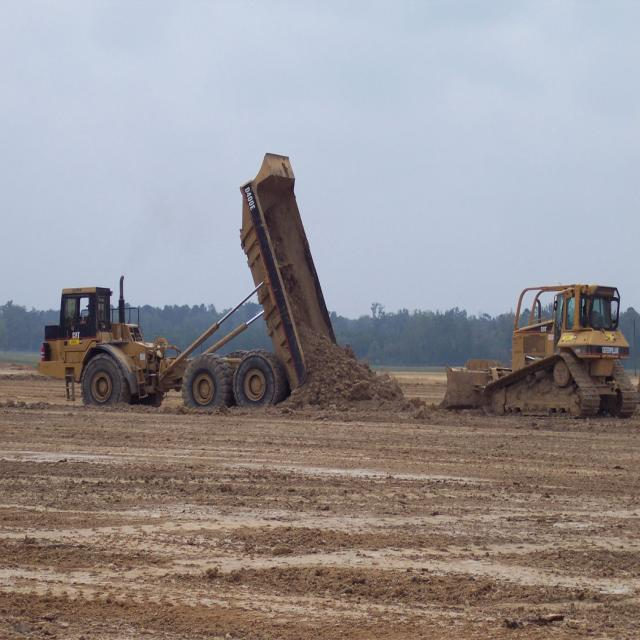buldozerpayloadergrader: (430, 254, 640, 431)
dump_truck: (47, 148, 350, 411)
